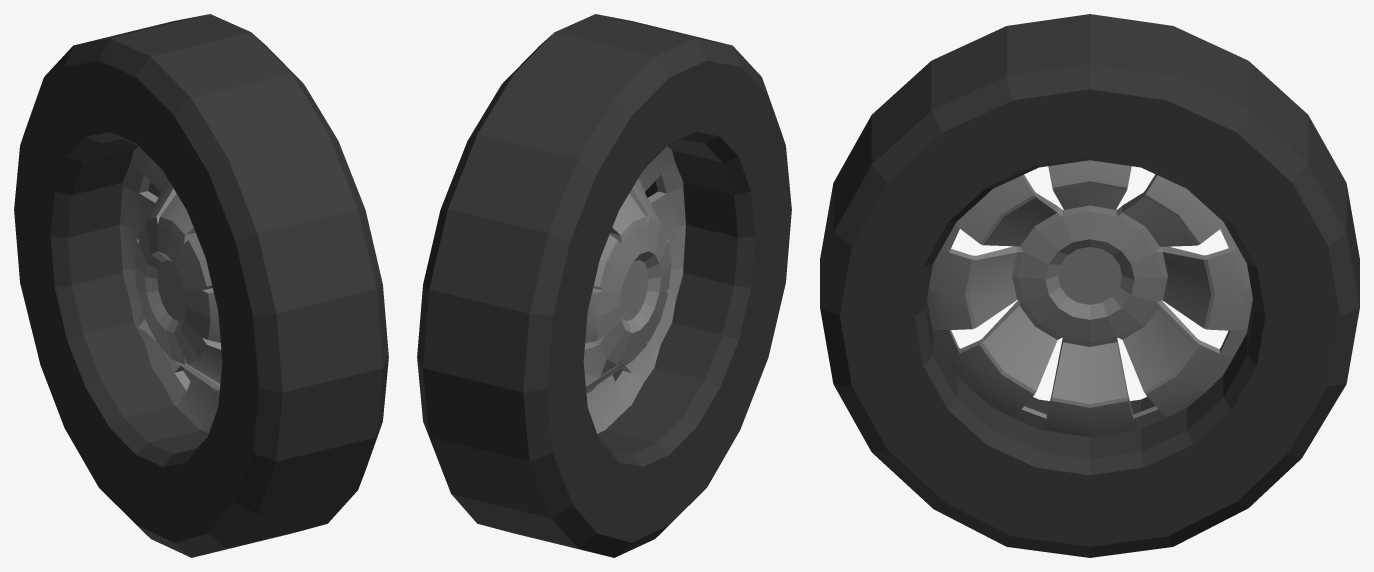
Rendered from model_tire_car.fbx.
The picture shows the model from 3 angles, left to right: view 1: azimuth 30°, elevation 25°; view 2: azimuth 150°, elevation 25°; view 3: azimuth 270°, elevation 25°; orthographic projection. The views are drawn at different scales.
Visible parts, largest first — view 1: model_tire_car; view 2: model_tire_car; view 3: model_tire_car.
Boxes of the visible parts, x1,y1,x2,y2 form: model_tire_car: (14, 14, 388, 557); model_tire_car: (417, 14, 791, 557); model_tire_car: (820, 14, 1359, 557).
Bounding box in the file's own units: 26.57 × 94.25 × 93.53.
Materials: 1 (1 with a texture image).
